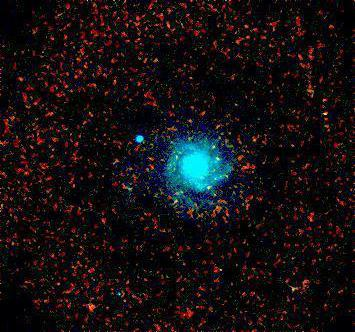star: (76, 294, 106, 324)
